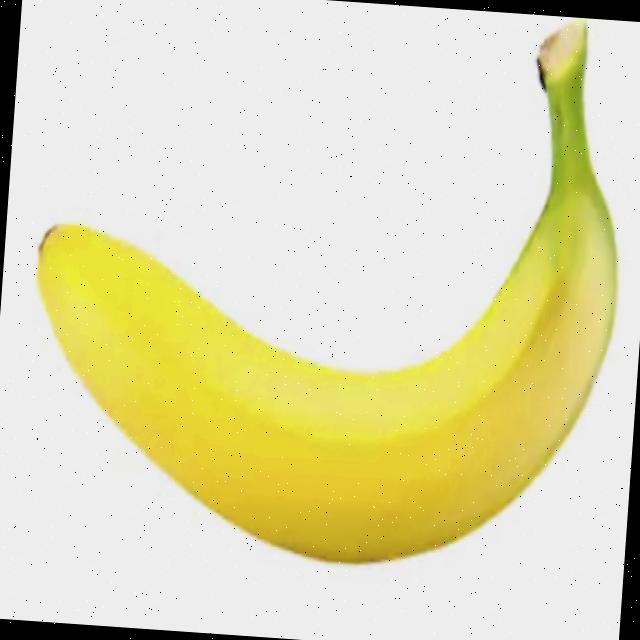Ripe: (3, 0, 640, 597)
